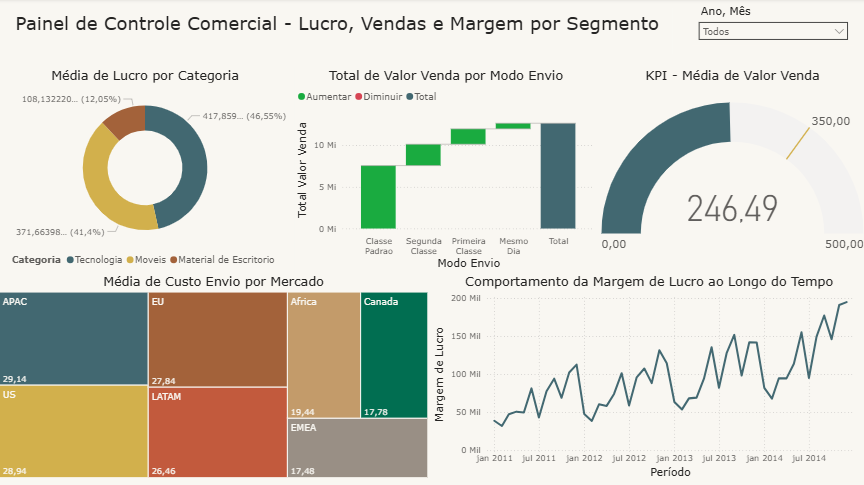

Layout of this report page (visuals, bound fields, positions):
{"tool":"powerbi","page":{"name":"Página 1","canvas":[1280,720],"ordinal":0},"visuals":[{"type":"waterfallChart","title":"Total de Valor Venda por Modo Envio","fields":{"Category":["Pedidos.Modo Envio"],"Y":["Sum(Vendas.Valor Venda)"]},"box":[437.9,101.4,446.7,302.7],"z":0},{"type":"treemap","fields":{"Group":["Clientes.Mercado"],"Values":["Avg(Vendas.Custo Envio)"]},"box":[0,404.1,639.2,305.6],"z":1000},{"type":"gauge","title":"KPI - Média de Valor Venda","fields":{"Y":["Avg(Vendas.Valor Venda)"]},"box":[884.6,101.4,395.3,302.7],"z":2000},{"type":"slicer","fields":{"Values":["Pedidos.Data Pedido.Variation.Hierarquia de datas.Ano","Pedidos.Data Pedido.Variation.Hierarquia de datas.Mês"]},"box":[1023.2,4.5,239,65.7],"z":3000},{"type":"donutChart","title":"Média de Lucro por Categoria","fields":{"Category":["Produtos.Categoria"],"Y":["Avg(Vendas.Lucro)"]},"box":[0,101.4,437.9,302.7],"z":4000},{"type":"lineChart","title":"Comportamento da Margem de Lucro ao Longo do Tempo","fields":{"Category":["Pedidos.Data Pedido.Variation.Hierarquia de datas.Ano","Pedidos.Data Pedido.Variation.Hierarquia de datas.Trimestre","Pedidos.Data Pedido.Variation.Hierarquia de datas.Mês"],"Y":["Sum(Vendas.MargemLucro)"]},"box":[639.2,404.1,640.7,305.6],"z":5000},{"type":"textbox","box":[23.5,14.7,971.3,67.6],"z":5001}]}

Visuals, with their boxes in screenshot pixels (x1, y1, x2, y2), scaled from the page's 1280x720 canvas onto the 864x485 screenshot:
"Total de Valor Venda por Modo Envio" waterfallChart: x1=296, y1=68, x2=597, y2=272
treemap - Clientes.Mercado x Avg(Vendas.Custo Envio): x1=0, y1=272, x2=431, y2=478
"KPI - Média de Valor Venda" gauge: x1=597, y1=68, x2=863, y2=272
slicer - Pedidos.Data Pedido.Variation.Hierarquia de datas.Ano x Pedidos.Data Pedido.Variation.Hierarquia de datas.Mês: x1=691, y1=3, x2=852, y2=47
"Média de Lucro por Categoria" donutChart: x1=0, y1=68, x2=296, y2=272
"Comportamento da Margem de Lucro ao Longo do Tempo" lineChart: x1=431, y1=272, x2=863, y2=478
textbox: x1=16, y1=10, x2=671, y2=55
